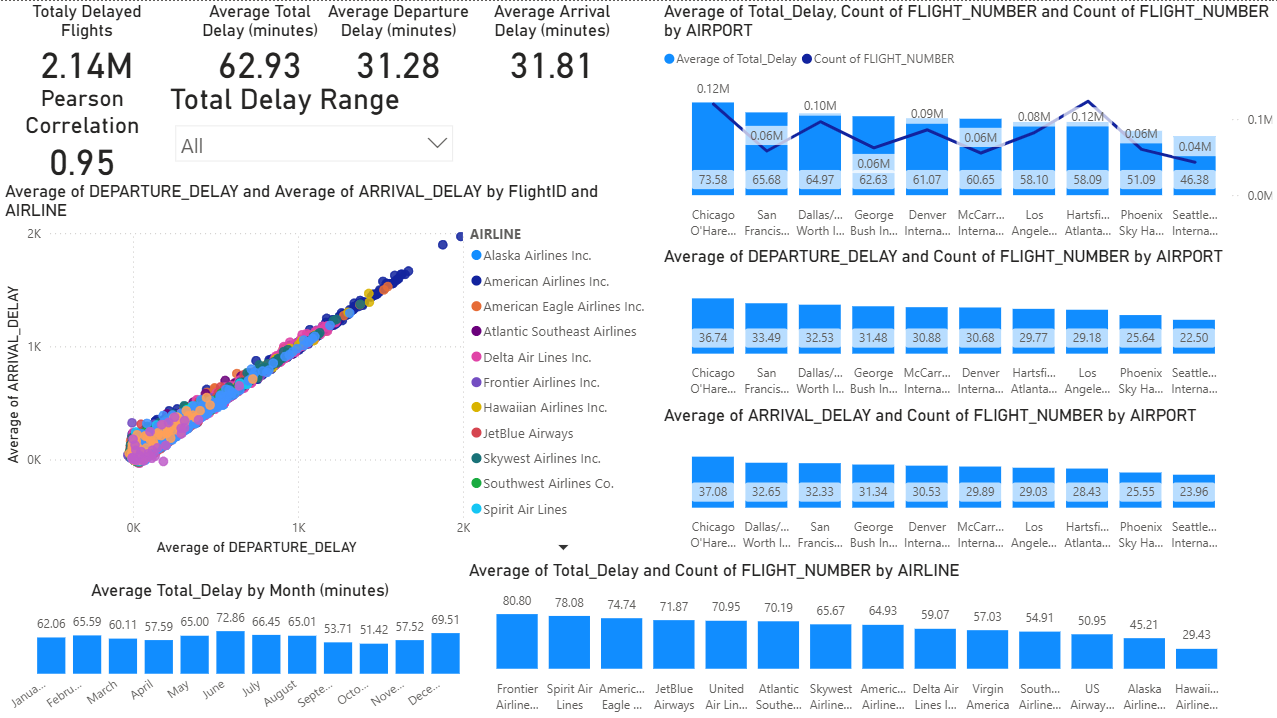

The dashboard page shown, as its layout file describes it:
{"tool":"powerbi","page":{"name":"Totaly Delayed Flights Analysis","canvas":[1280,720],"ordinal":1},"visuals":[{"type":"slicer","title":"Total Delay Range","fields":{"Values":["flights.Delay_Category"]},"box":[165.1,80.7,298.4,99],"z":0},{"type":"card","title":"Totaly Delayed Flights","fields":{"Values":["CountNonNull(flights.FLIGHT_NUMBER)"]},"box":[0,0,173.6,83.2],"z":2000},{"type":"lineStackedColumnComboChart","fields":{"Category":["airports.AIRPORT"],"Y":["Avg(flights.Total_Delay)"],"Y2":["CountNonNull(flights.FLIGHT_NUMBER)"]},"box":[659,0,621.3,245.4],"z":3000},{"type":"card","title":"Average Total Delay (minutes)","fields":{"Values":["Avg(flights.Total_Delay)"]},"box":[195.7,0,127.2,83.2],"z":4000},{"type":"lineStackedColumnComboChart","fields":{"Category":["airports.AIRPORT"],"Y":["Avg(flights.DEPARTURE_DELAY)"]},"box":[659,245.4,583.5,158.9],"z":5000},{"type":"lineStackedColumnComboChart","fields":{"Category":["airports.AIRPORT"],"Y":["Avg(flights.ARRIVAL_DELAY)"]},"box":[659,404.2,583.5,154.1],"z":6000},{"type":"columnChart","fields":{"Category":["airlines.AIRLINE"],"Y":["Avg(flights.Total_Delay)"]},"box":[463.5,558.8,780.2,160.2],"z":7000},{"type":"card","title":"Average Departure Delay (minutes)","fields":{"Values":["Avg(flights.DEPARTURE_DELAY)"]},"box":[322.8,0,151.6,83.2],"z":8000},{"type":"card","title":"Average Arrival Delay (minutes)","fields":{"Values":["Avg(flights.ARRIVAL_DELAY)"]},"box":[474.5,0,154.1,83.2],"z":9000},{"type":"columnChart","title":"Average Total_Delay by Month (minutes)","fields":{"Category":["months.month_name.Variation.Date Hierarchy.Year","months.month_name.Variation.Date Hierarchy.Quarter","months.month_name.Variation.Date Hierarchy.Month","months.month_name.Variation.Date Hierarchy.Day"],"Y":["Avg(flights.Total_Delay)"]},"box":[0,578.3,479.7,141.2],"z":10000},{"type":"scatterChart","fields":{"X":["Avg(flights.DEPARTURE_DELAY)"],"Y":["Avg(flights.ARRIVAL_DELAY)"],"Series":["airlines.AIRLINE"],"Category":["flights.FlightID"]},"box":[0,179.8,659.1,379.1],"z":11000},{"type":"card","title":"Pearson Correlation","fields":{"Values":["airlines.PearsonCorrelation"]},"box":[0,83.2,165.1,96.6],"z":12000}]}

Visuals, with their boxes in screenshot pixels (x1, y1, x2, y2), scaled from the page's 1280x720 canvas onto the 1277x718 screenshot:
"Total Delay Range" slicer: (165,80,462,179)
"Totaly Delayed Flights" card: (0,0,173,83)
lineStackedColumnComboChart - airports.AIRPORT x Avg(flights.Total_Delay): (657,0,1276,245)
"Average Total Delay (minutes)" card: (195,0,322,83)
lineStackedColumnComboChart - airports.AIRPORT x Avg(flights.DEPARTURE_DELAY): (657,245,1240,403)
lineStackedColumnComboChart - airports.AIRPORT x Avg(flights.ARRIVAL_DELAY): (657,403,1240,557)
columnChart - airlines.AIRLINE x Avg(flights.Total_Delay): (462,557,1241,717)
"Average Departure Delay (minutes)" card: (322,0,473,83)
"Average Arrival Delay (minutes)" card: (473,0,627,83)
"Average Total_Delay by Month (minutes)" columnChart: (0,577,479,717)
scatterChart - Avg(flights.DEPARTURE_DELAY) x Avg(flights.ARRIVAL_DELAY): (0,179,658,557)
"Pearson Correlation" card: (0,83,165,179)
